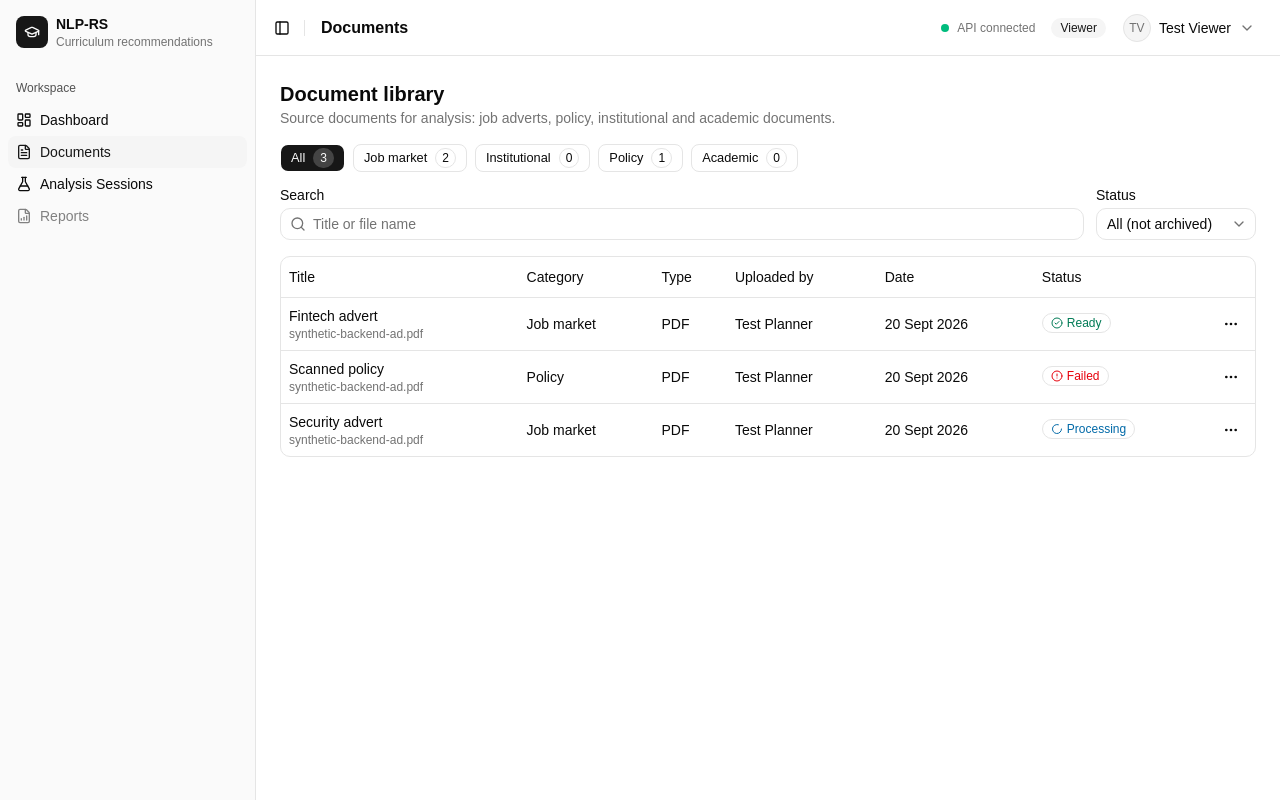
Test: DocumentsPage › hides upload, archive and delete from viewers
Step 1. Click the button named "Actions for Fintech advert" → (1231, 324), box [1215,308,1247,340]
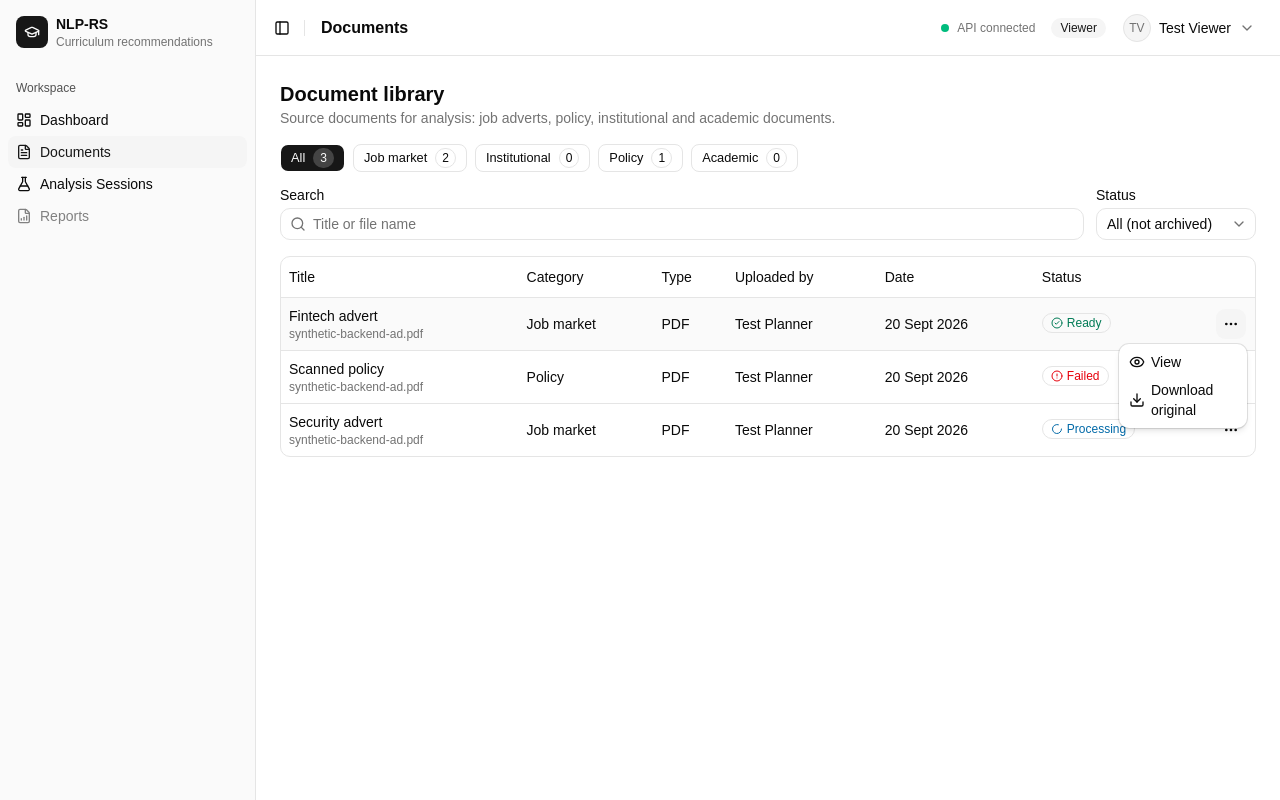
Expected: the menu item "Download original" is shown, [1129,382,1213,418]
